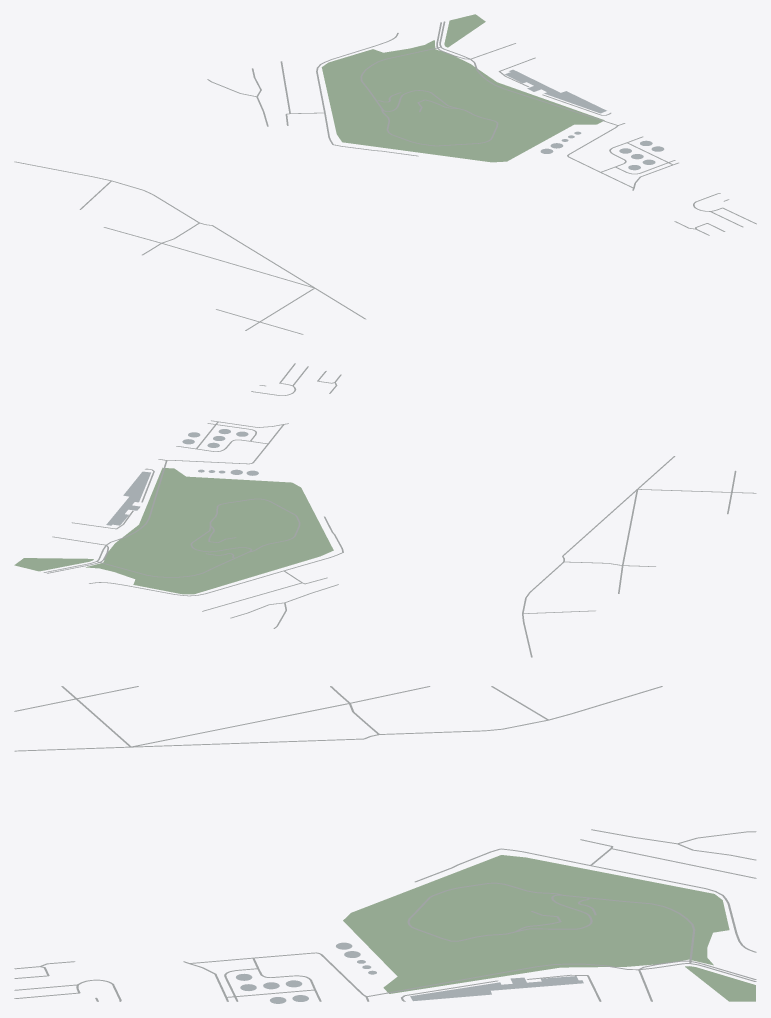
The model's file is -15_-8-known-coarse.glb.
The picture shows the model from 3 angles, top to bottom: view 1: azimuth 30°, elevation 25°; view 2: azimuth 150°, elevation 25°; view 3: azimuth 270°, elevation 25°; orthographic projection. The views are drawn at different scales.
Size of the model in its own units: 1010 by 0.15 by 998.
